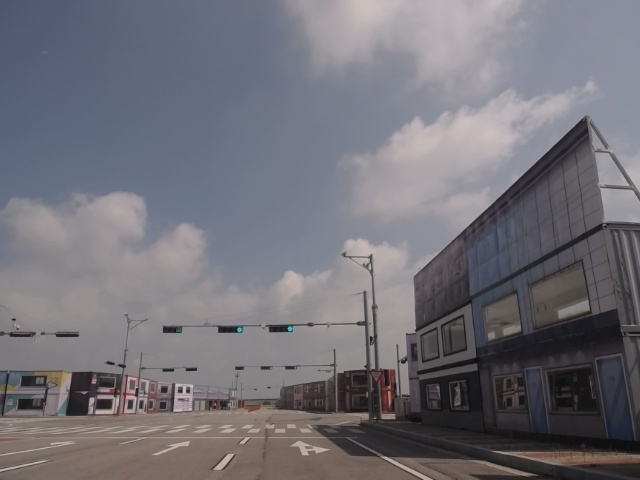straight_green_4: (267, 324, 295, 334), (217, 326, 244, 334)
